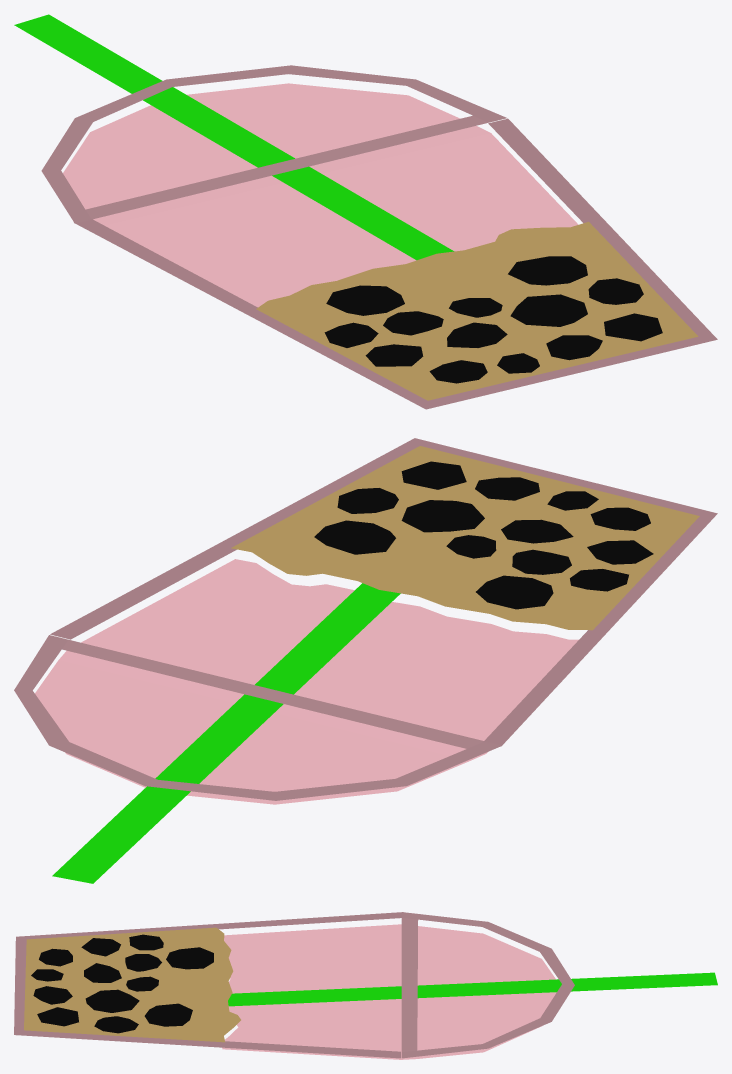
The model's file is boba.glb.
3 views of the same model, one above another, from view 1: azimuth 30°, elevation 25°; view 2: azimuth 150°, elevation 25°; view 3: azimuth 270°, elevation 25° (orthographic). The views are drawn at different scales.
Visible parts, largest first — view 1: Circle.001, Plane.007, Circle, Plane.006; view 2: Circle.001, Plane.007, Circle, Plane.006; view 3: Circle.001, Plane.007, Circle, Plane.006.
Part boxes in pixels (x1,y1,x2,y2): Circle.001: (63, 83, 578, 307); Plane.007: (256, 221, 698, 400); Circle: (41, 65, 717, 409); Plane.006: (14, 14, 454, 260); Circle.001: (35, 559, 578, 804); Plane.007: (231, 446, 699, 630); Circle: (14, 438, 717, 800); Plane.006: (52, 583, 400, 883); Circle.001: (222, 924, 556, 1059); Plane.007: (24, 927, 240, 1042); Circle: (14, 912, 574, 1058); Plane.006: (228, 972, 717, 1006).
Bounding box in the file's own units: 2.14 × 0.0545 × 4.35.
